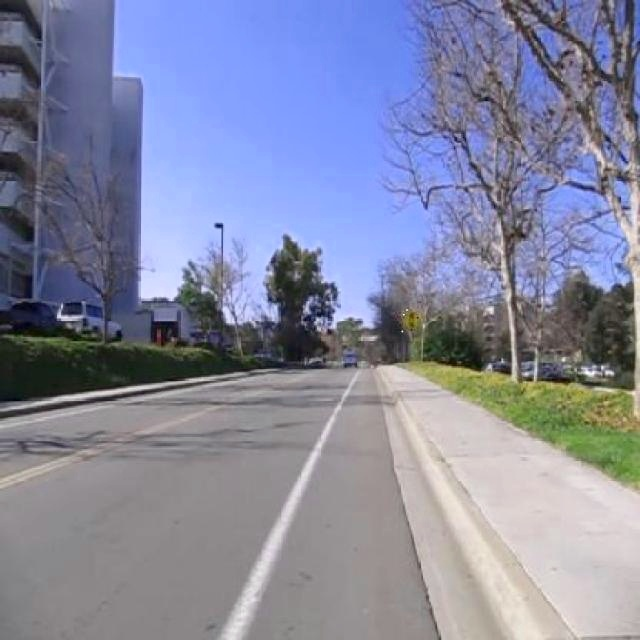signalAhead: (400, 306, 421, 334)
